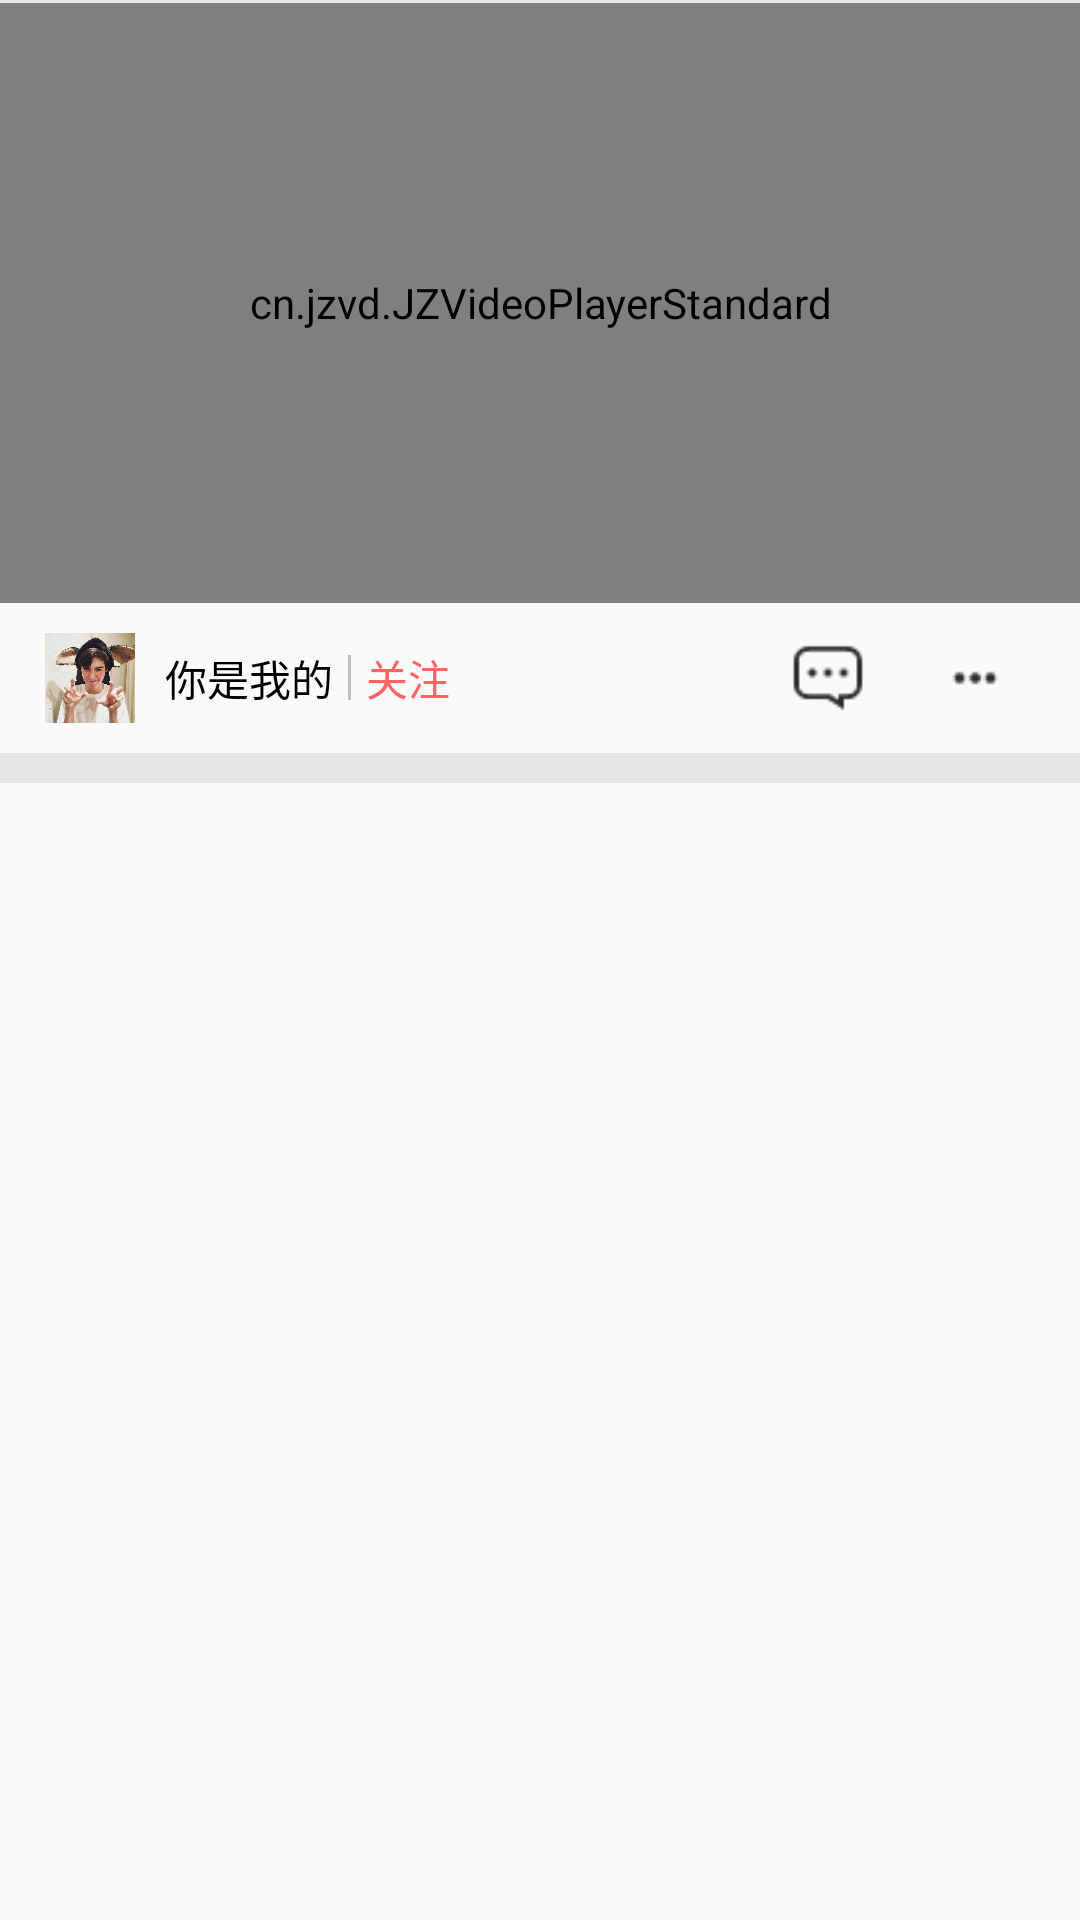

Where icons sit on this 1080x1920 app screen, as [x1,y1,x2,y2]:
comment viedo: [793,645,863,710]
portrait pic: [45,633,135,723]
